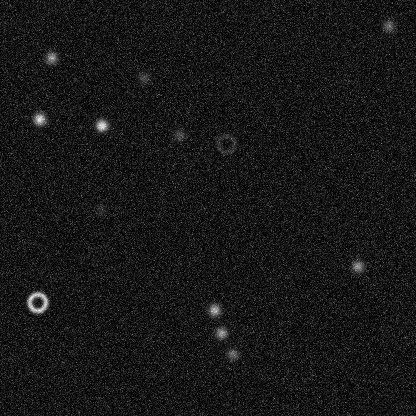Ring: (214, 131, 238, 155), (25, 290, 49, 314)
Spot: (171, 126, 187, 142), (213, 324, 229, 340), (206, 302, 222, 318), (31, 111, 47, 127), (224, 346, 240, 362), (43, 49, 59, 65), (93, 117, 109, 133), (135, 69, 151, 85), (93, 201, 109, 217), (349, 258, 365, 274), (380, 17, 396, 33)
